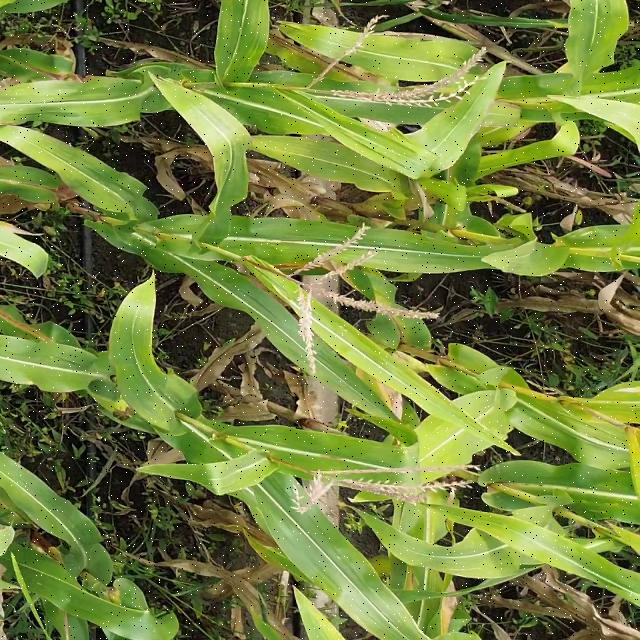gray-leaf-spot: (519, 450, 625, 532), (531, 210, 629, 278)
northern-leaf-blight: (6, 297, 94, 382)
southern-leaf-blight: (29, 533, 120, 640)
